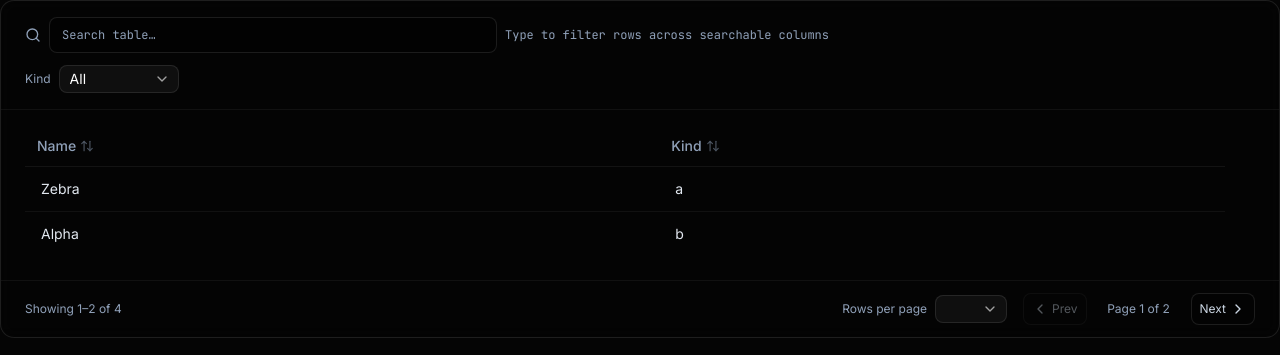
Test: TsocDataTable › shows pagination summary and navigates pages
Expected: the text "Showing 1–2 of 4" is shown, top-left (25, 300), bottom-right (122, 316)
Expected: the text "Page 1 of 2" is shown, top-left (1107, 300), bottom-right (1170, 316)
Click the button with aria-label "Next page" at (1223, 308), box top-left (1190, 292), bottom-right (1255, 324)
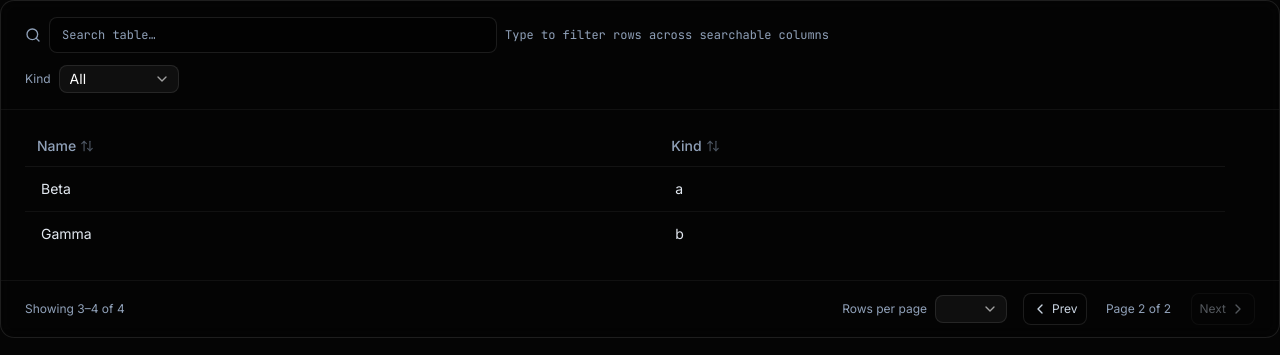
Now the text "Showing 3–4 of 4" is shown, box top-left (25, 300), bottom-right (125, 316)
Now the text "Beta" is shown, box top-left (25, 166), bottom-right (659, 211)
Now the text "Zebra" is gone
